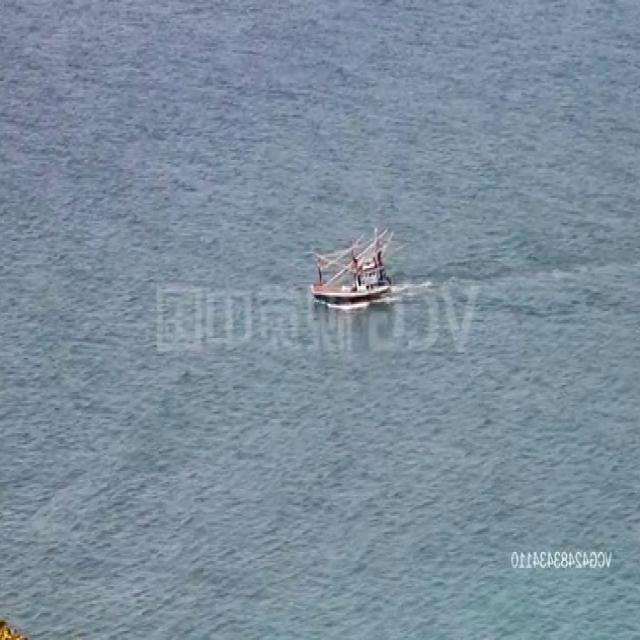fishing boat: (314, 230, 396, 306)
